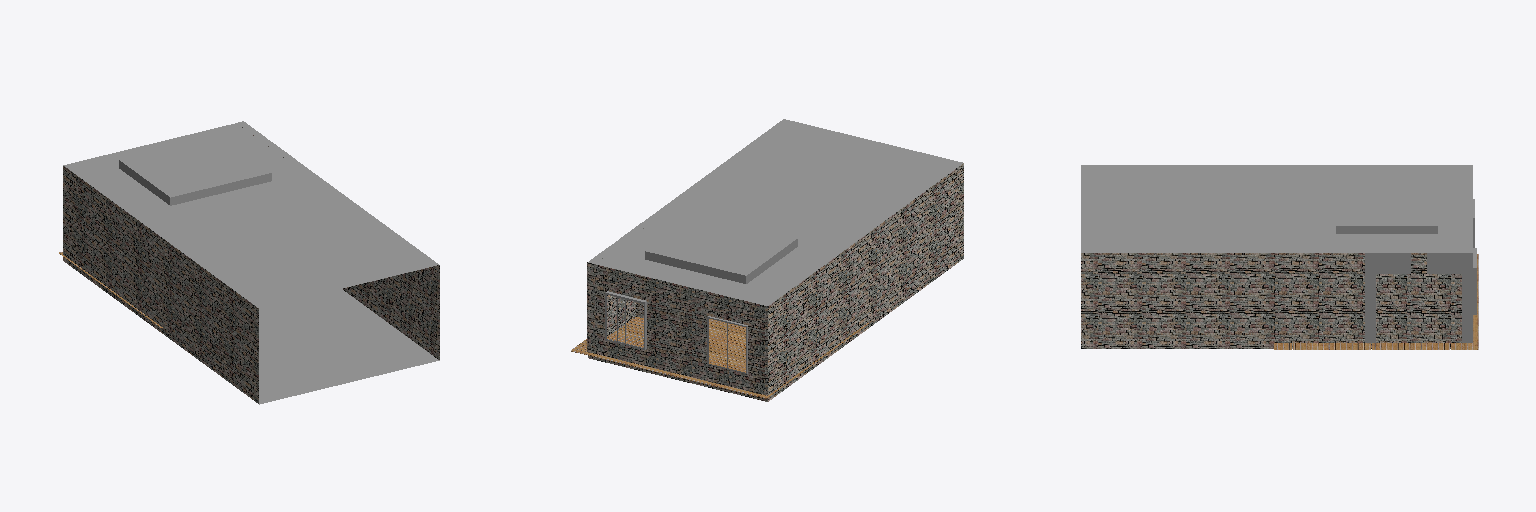
The picture shows the model from 3 angles: view 1: azimuth 30°, elevation 25°; view 2: azimuth 150°, elevation 25°; view 3: azimuth 270°, elevation 25°; orthographic projection.
Parts seen in each view (by area): view 1: Cube.011_Cube.019; view 2: Cube.011_Cube.019, FloorBoard_Cube.018, Cube.012_Cube.020; view 3: Cube.011_Cube.019, Cube.012_Cube.020, FloorBoard_Cube.018.
Part boxes in pixels (bbox=[...]): Cube.011_Cube.019: bbox=[63, 123, 439, 404]; Cube.011_Cube.019: bbox=[588, 119, 963, 401]; FloorBoard_Cube.018: bbox=[571, 317, 868, 398]; Cube.012_Cube.020: bbox=[587, 223, 647, 353]; Cube.011_Cube.019: bbox=[1081, 165, 1476, 348]; Cube.012_Cube.020: bbox=[1365, 250, 1472, 342]; FloorBoard_Cube.018: bbox=[1274, 254, 1478, 349].
Bounding box in the file's own units: 19.57 × 9.93 × 34.48.
9 materials, 2 textured.